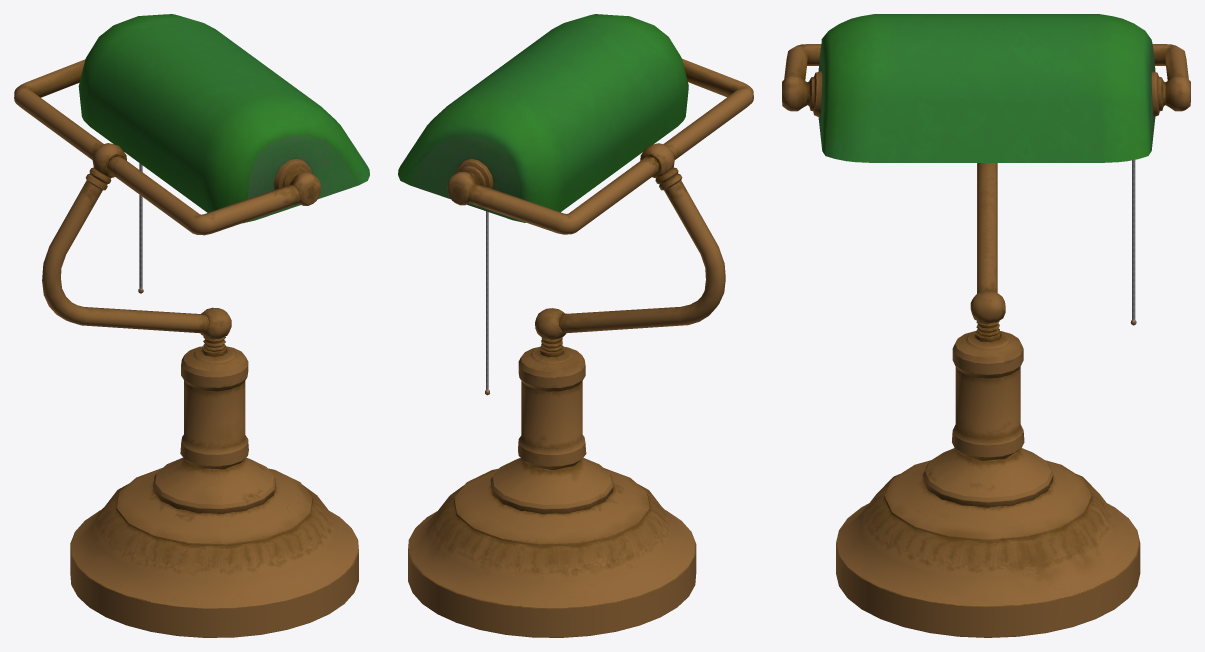
File: lamp.glb
3 renders of one model, left to right at view 1: azimuth 30°, elevation 25°; view 2: azimuth 150°, elevation 25°; view 3: azimuth 270°, elevation 25°, orthographic. The views are drawn at different scales.
Visible parts, largest first — view 1: SM_Bank_Lamp_A1; view 2: SM_Bank_Lamp_A1; view 3: SM_Bank_Lamp_A1.
Boxes of the visible parts, x1=… form: SM_Bank_Lamp_A1: x1=14, y1=14, x2=369, y2=637; SM_Bank_Lamp_A1: x1=398, y1=14, x2=753, y2=637; SM_Bank_Lamp_A1: x1=782, y1=14, x2=1190, y2=637.
Bounding box in the file's own units: 0.2491 × 0.4163 × 0.282.
Materials: 1 (1 with a texture image).
